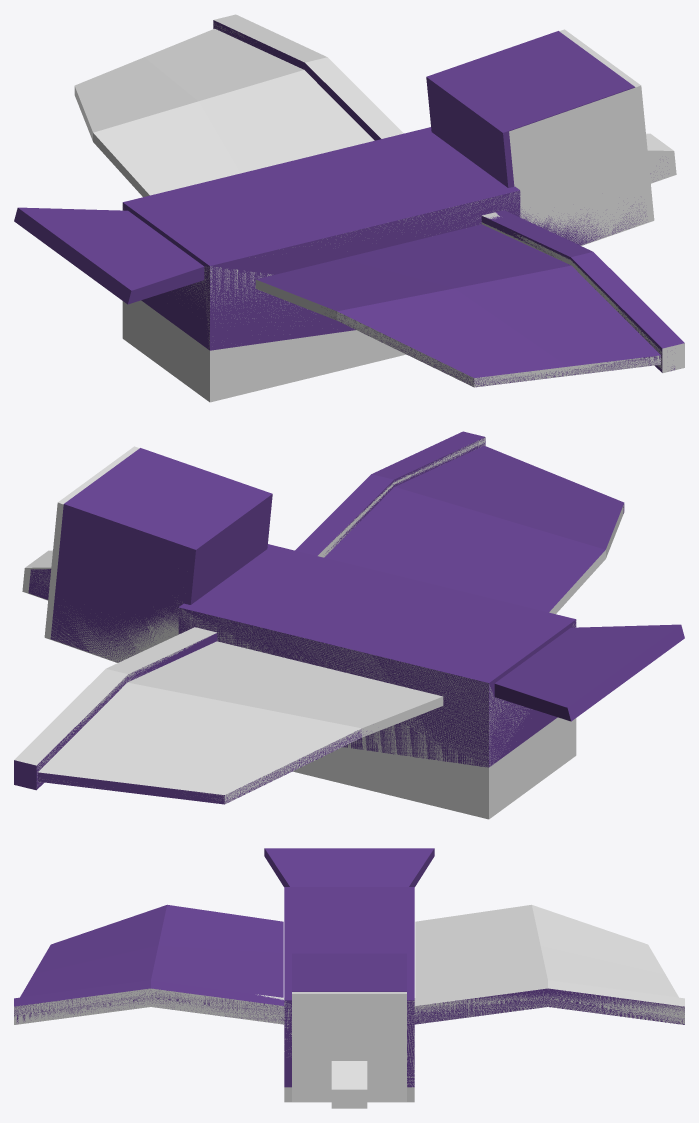
Rendered from Crow_Mock.fbx.
3 renders of one model, top to bottom at view 1: azimuth 30°, elevation 25°; view 2: azimuth 150°, elevation 25°; view 3: azimuth 270°, elevation 25°, orthographic. The views are drawn at different scales.
Visible parts, largest first — view 1: Crow, Wings.001, Head.001, Body.001; view 2: Crow, Wings.001, Body.001, Head.001; view 3: Crow, Wings.001, Head.001, Body.001.
Part boxes in pixels (box(x1,y1,x2,y2)): Crow: box(14, 20, 684, 387); Wings.001: box(74, 14, 684, 387); Head.001: box(509, 29, 676, 245); Body.001: box(122, 191, 520, 402); Crow: box(14, 431, 684, 804); Wings.001: box(14, 437, 623, 804); Body.001: box(178, 608, 576, 819); Head.001: box(22, 446, 182, 662); Crow: box(14, 848, 684, 1087); Wings.001: box(14, 904, 684, 1024); Head.001: box(292, 992, 406, 1108); Body.001: box(284, 1001, 414, 1102).
Size of the model in its own units: 672 by 223 by 880.
